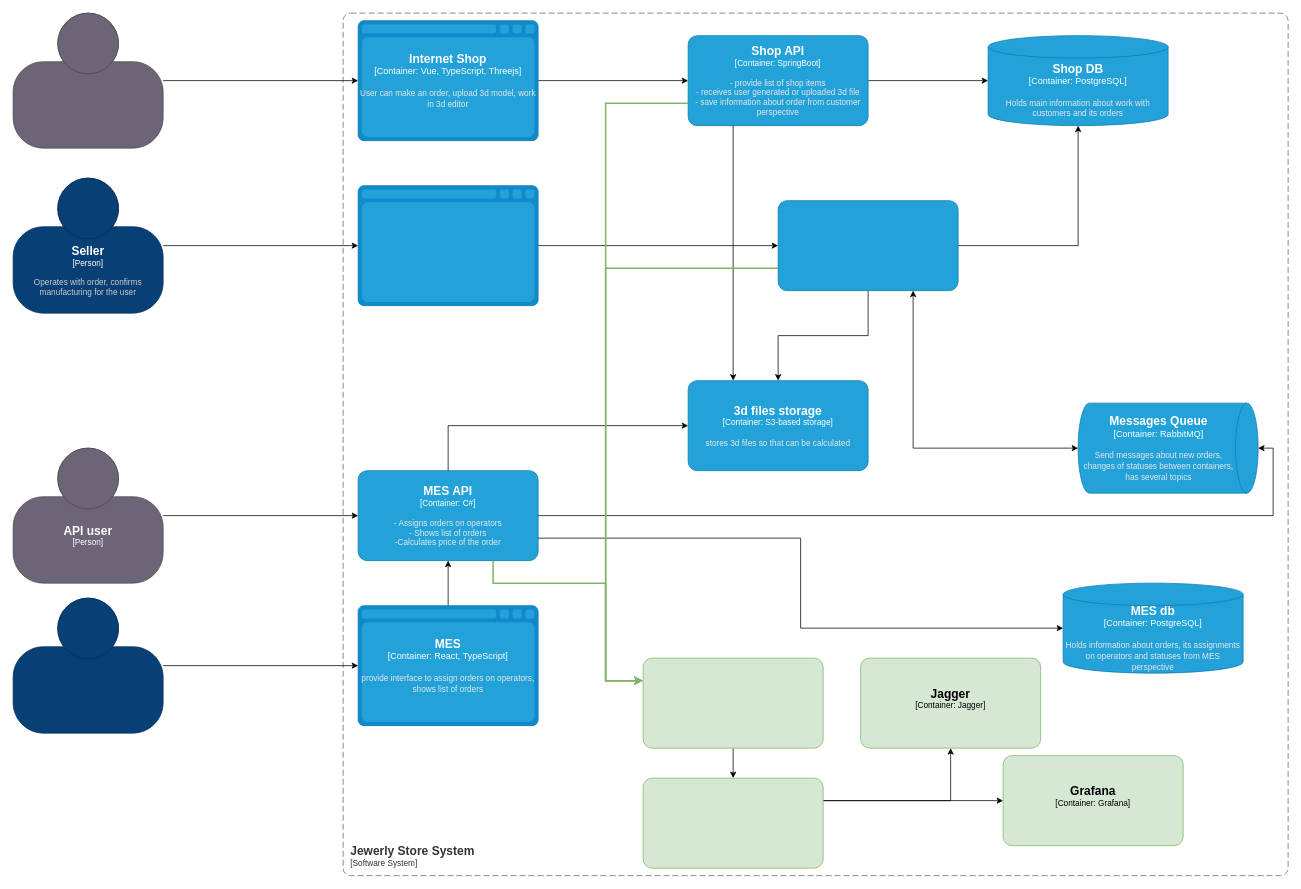
Some shapes in this 1301 by 889 pixel diagram are drawn without their labels. Here are the shapes that lost their labels. From the top down, the centre of each, then its label:
At point 87,80: "Customer [Person]".
At point 447,245: "CRM [Container: Vue, TypeScript]".
At point 867,245: "CRM API [Container: SpringBoot]".
At point 87,665: "Operator [Person] Takes order in work, manufactures jewerly".
At point 732,702: "OpenTelemetry Collector [Container: OpenTelemetry Collector]".
At point 732,822: "Prometheus [Container: Prometheus]".
